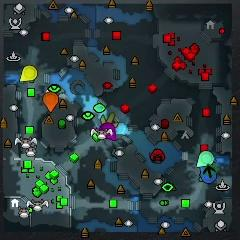p1: (200, 165, 217, 184)
p2: (197, 151, 214, 166)
p3: (100, 121, 117, 141)
p4: (21, 66, 37, 80)
p5: (43, 91, 58, 111)
x2: (100, 112, 118, 127)
x4Clone: (202, 165, 215, 178)
